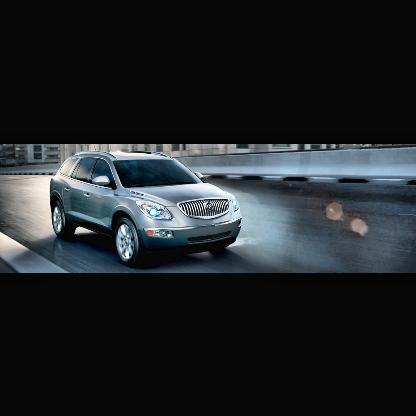Buick Enclave SUV 2012: (47, 147, 246, 268)
